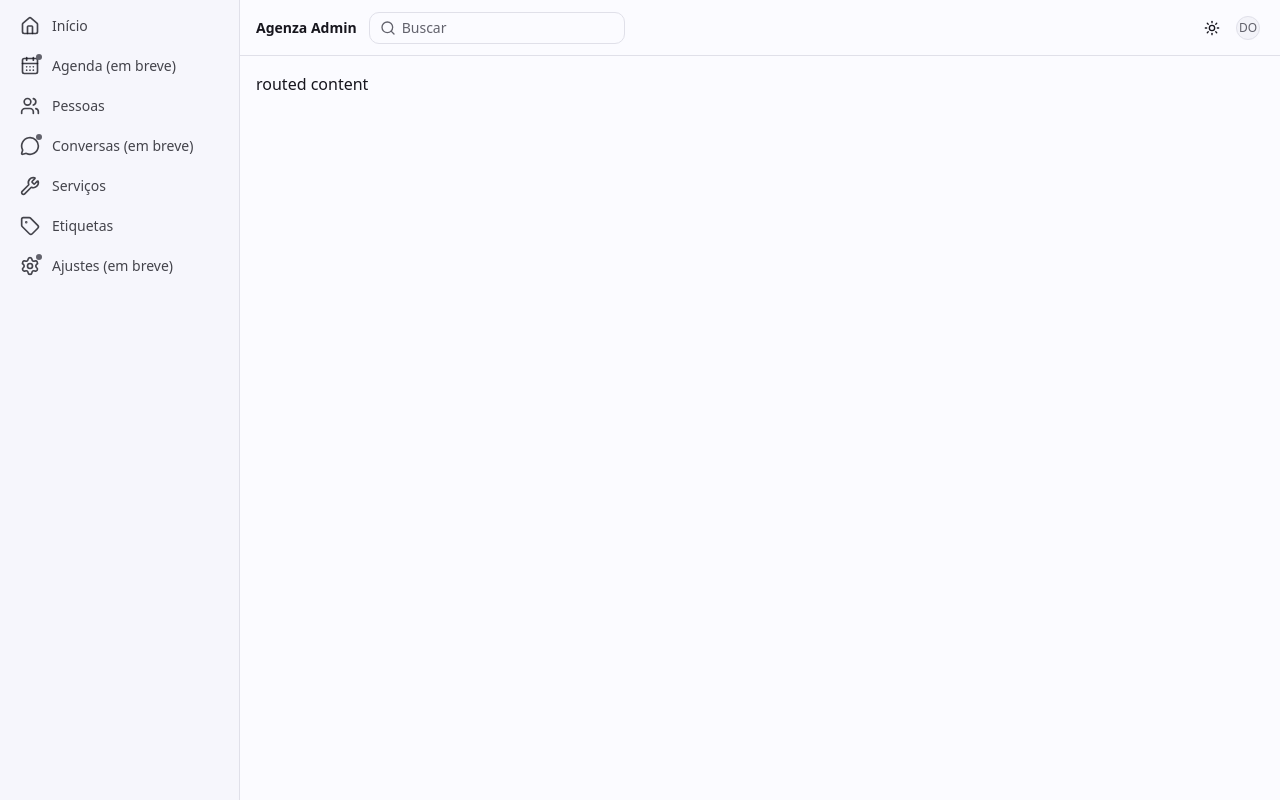
Test: AppShell › opens the command palette from the header search button
Click the button "Buscar": (497, 28) [369,12,625,44]
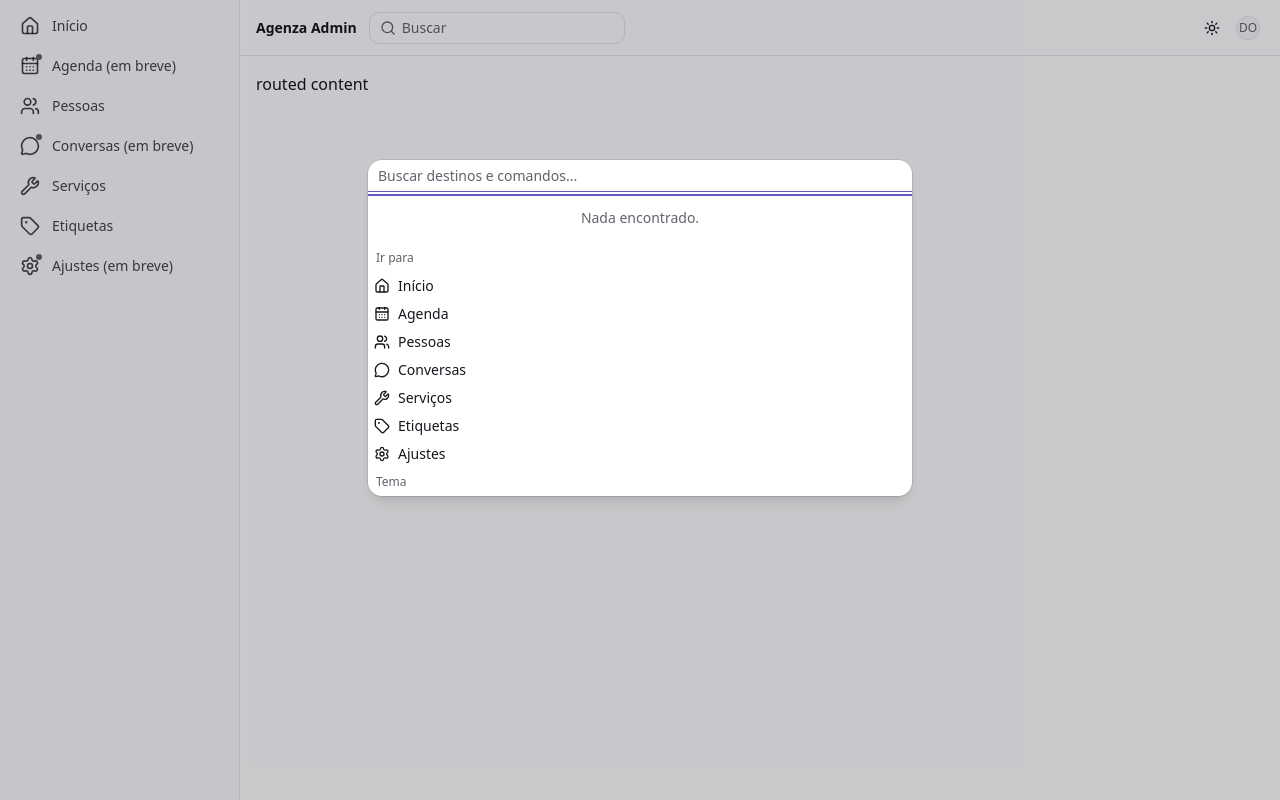
Expected: the option "Etiquetas" is shown, [374,416,459,435]
